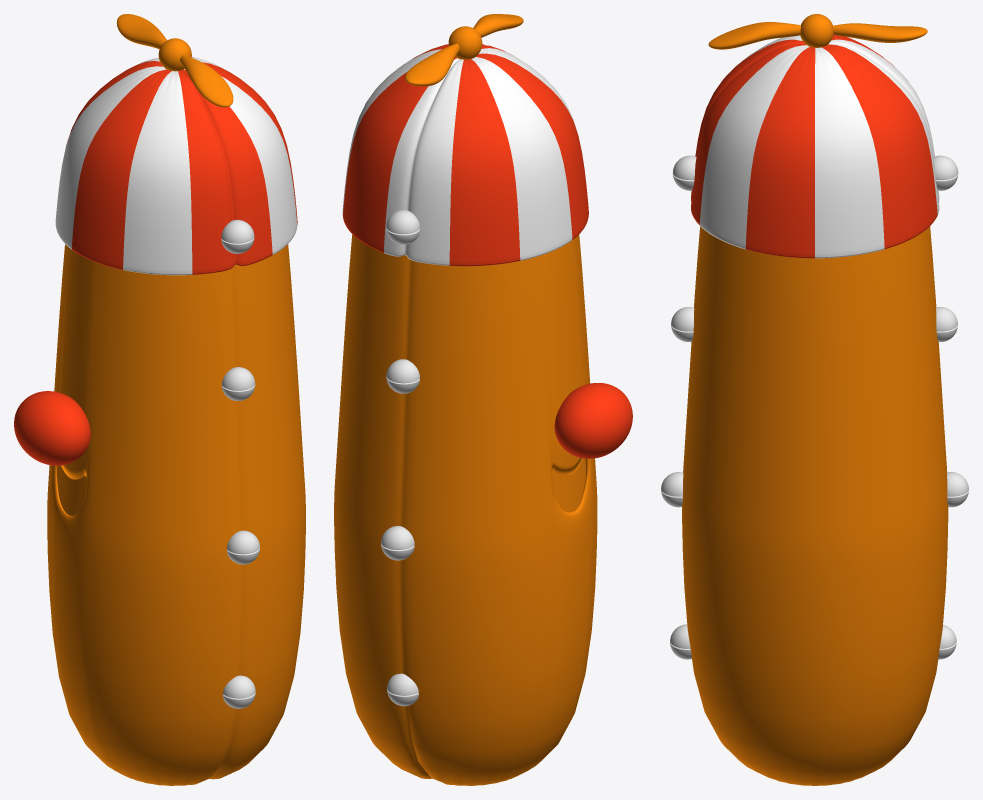
Rendered from 20points.gltf.
3 renders of one model, left to right at view 1: azimuth 30°, elevation 25°; view 2: azimuth 150°, elevation 25°; view 3: azimuth 270°, elevation 25°, orthographic. The views are drawn at different scales.
Parts seen in each view (by area): view 1: Circle_003; view 2: Circle_003; view 3: Circle_003.
Boxes of the visible parts, x1=… form: Circle_003: x1=14, y1=14, x2=305, y2=785; Circle_003: x1=334, y1=14, x2=632, y2=785; Circle_003: x1=661, y1=14, x2=968, y2=785.
Bounding box in the file's own units: 2.65 × 6.9 × 2.56.
